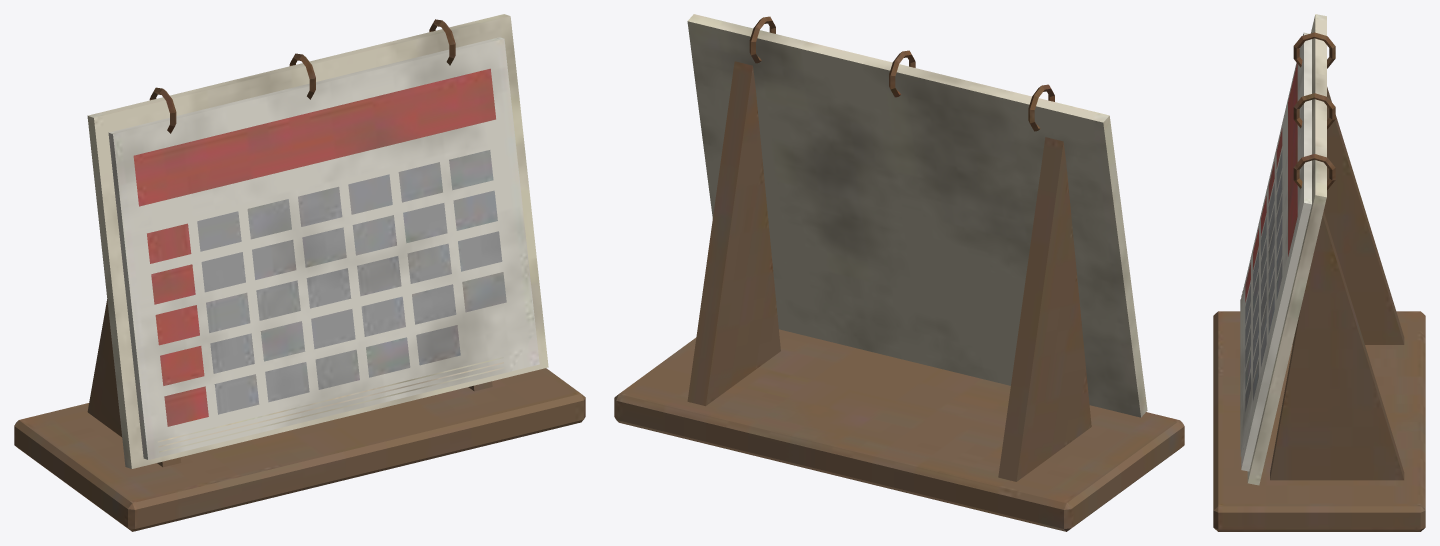
Rendered from O08_desk_calendar.glb.
3 renders of one model, left to right at view 1: azimuth 30°, elevation 25°; view 2: azimuth 150°, elevation 25°; view 3: azimuth 270°, elevation 25°, orthographic. The views are drawn at different scales.
Parts seen in each view (by area): view 1: Dark wooden desk plinth; view 2: Dark wooden desk plinth; view 3: Dark wooden desk plinth.
Boxes of the visible parts, x1,y1,x2,y2 form: Dark wooden desk plinth: (14,14,585,531); Dark wooden desk plinth: (614,14,1184,531); Dark wooden desk plinth: (1213,14,1425,531).
Size of the model in its own units: 0.2 by 0.1599 by 0.09.
Materials: 6 (6 with a texture image).
